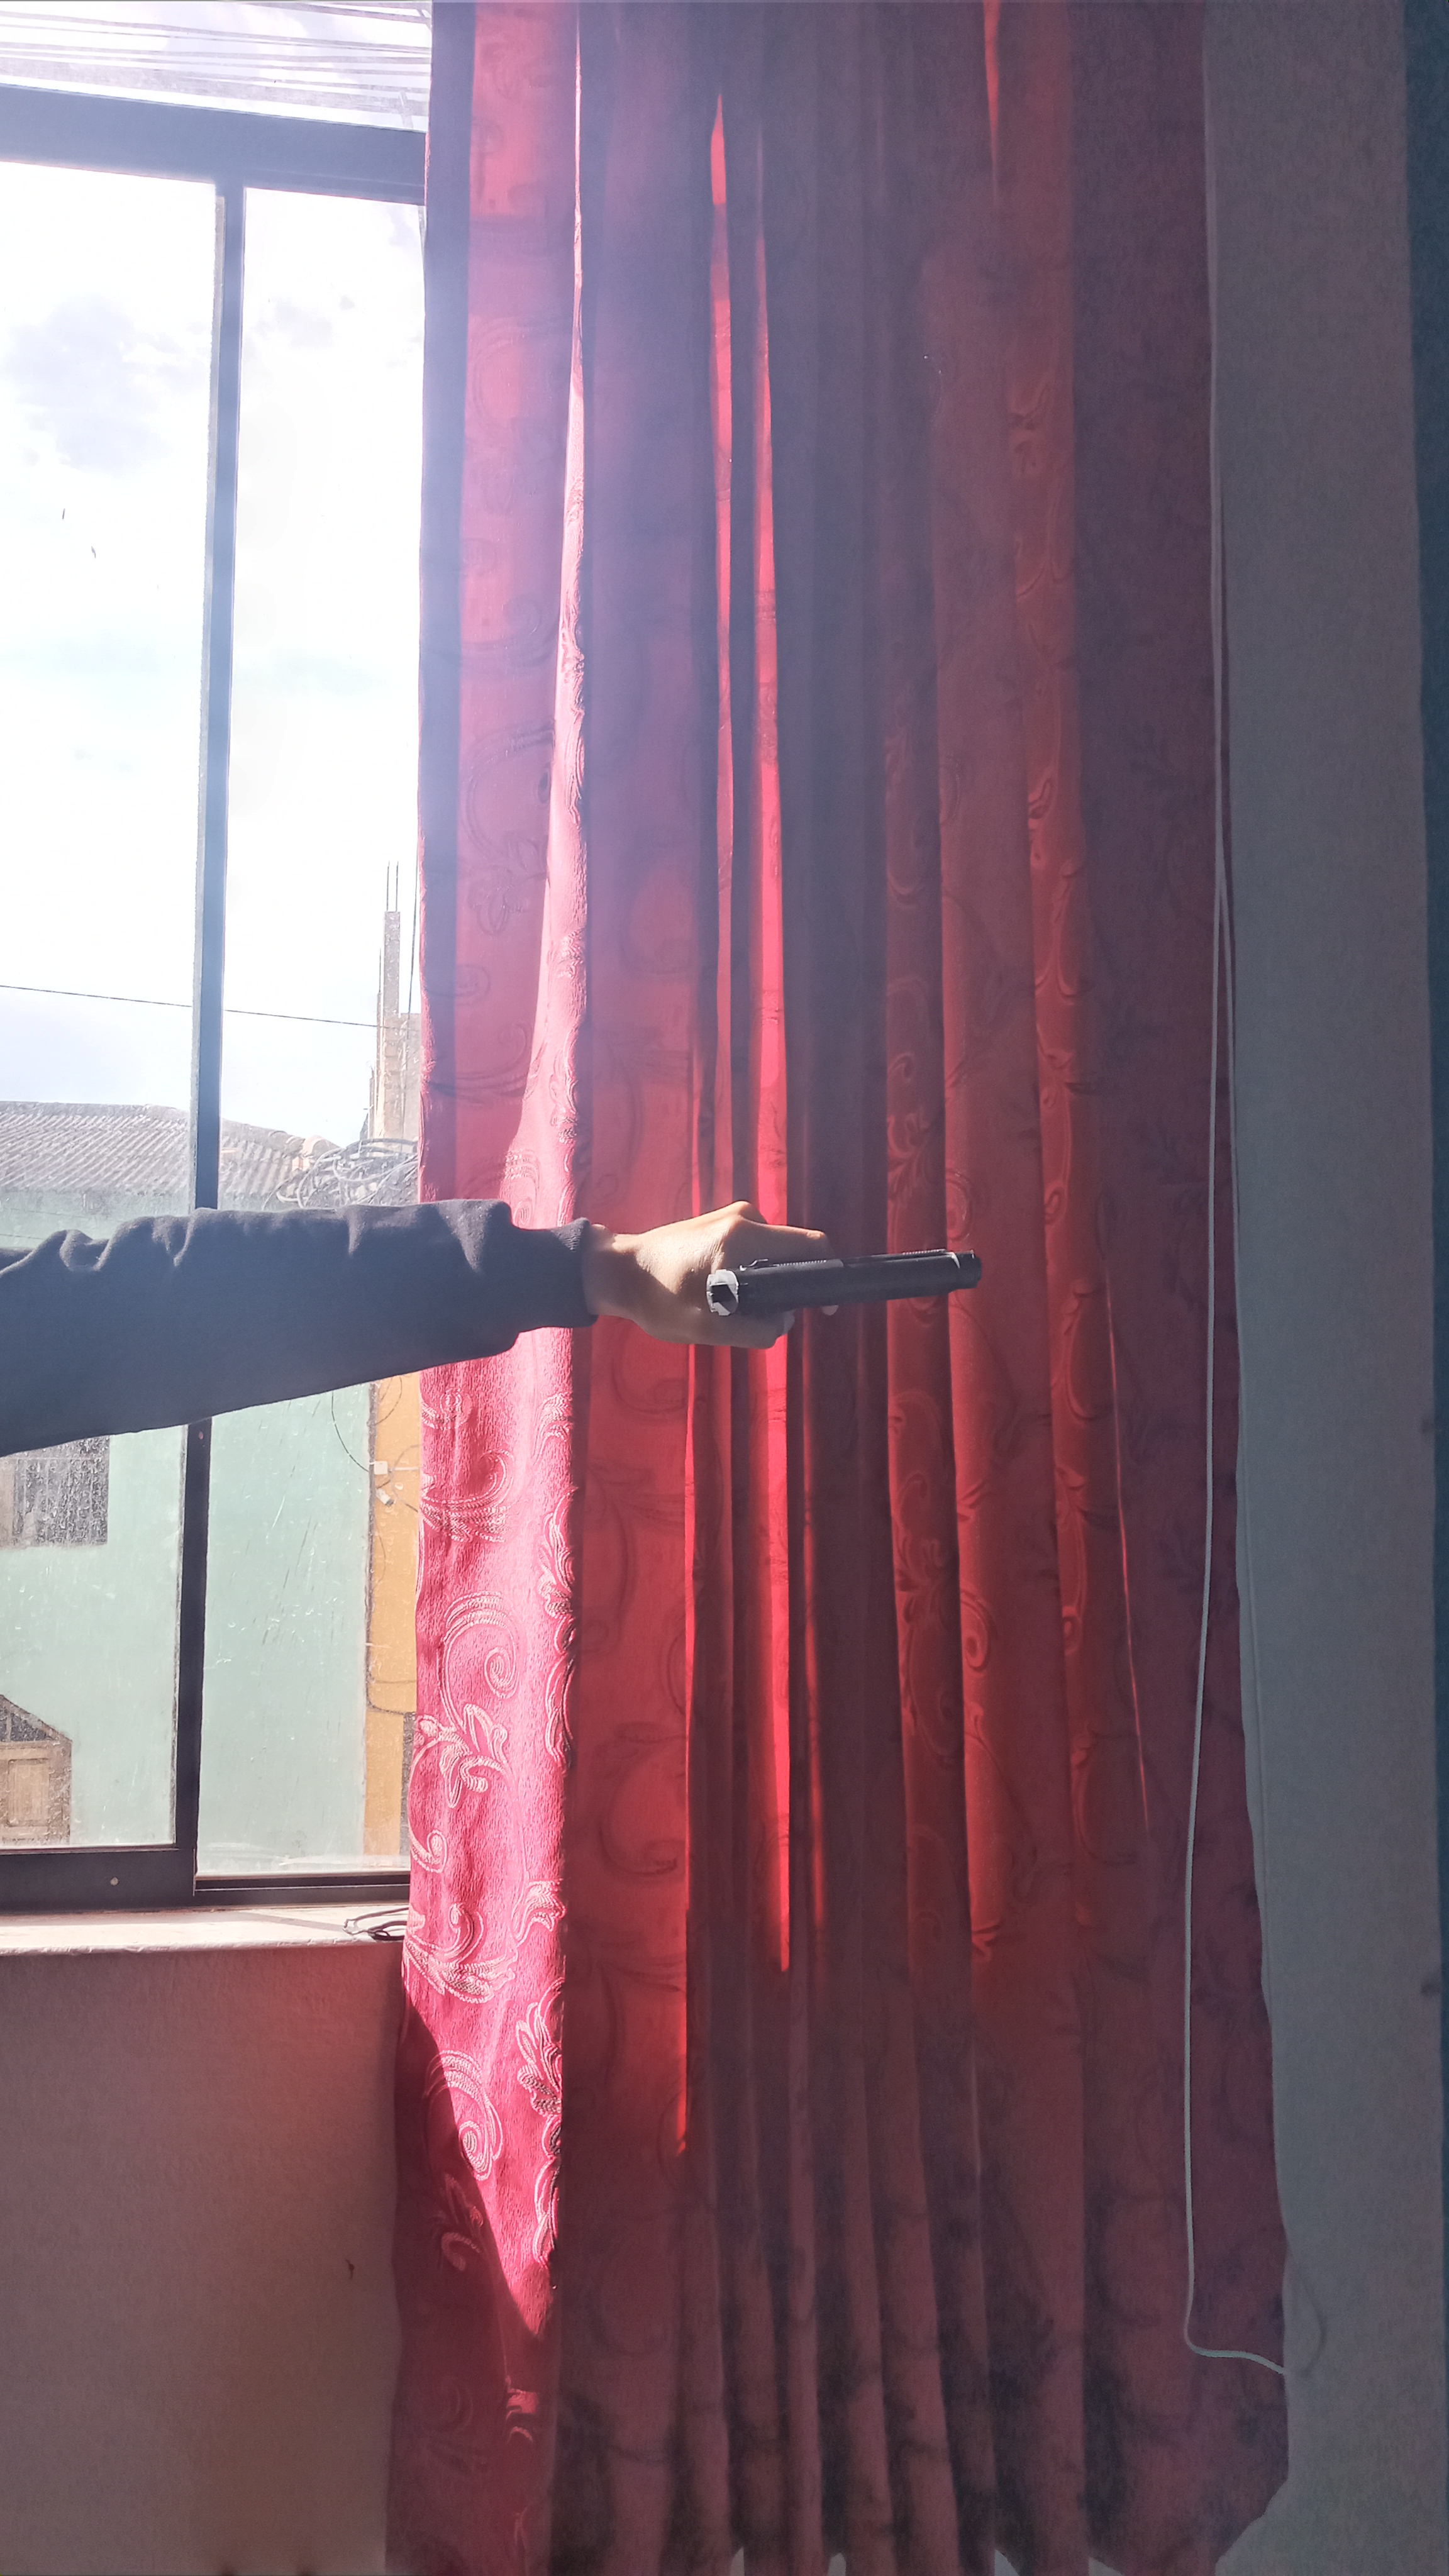Arma: (690, 1237, 989, 1336)
